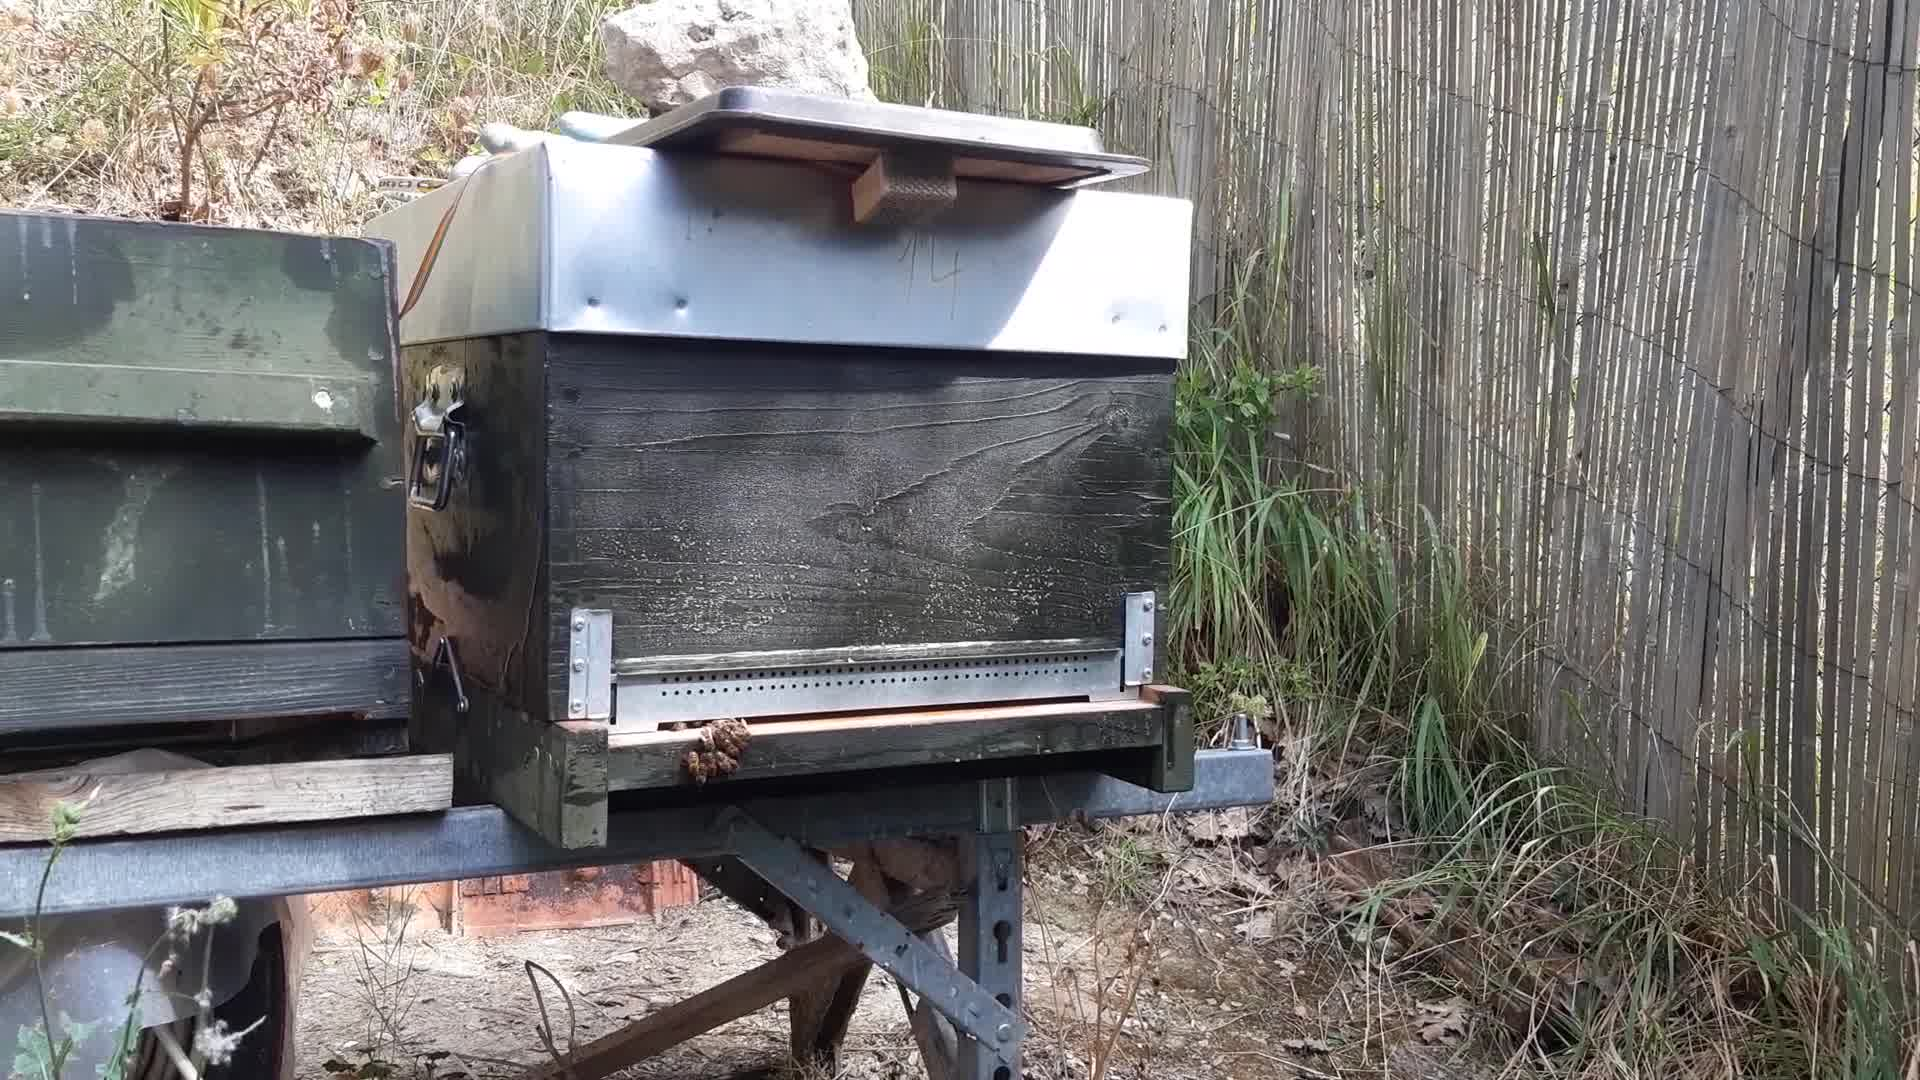bee: (678, 716, 754, 789)
